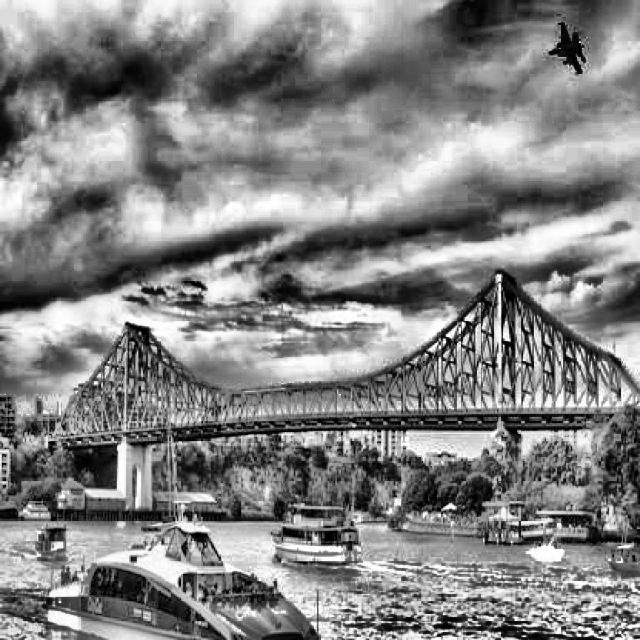F18: (547, 21, 587, 76)
